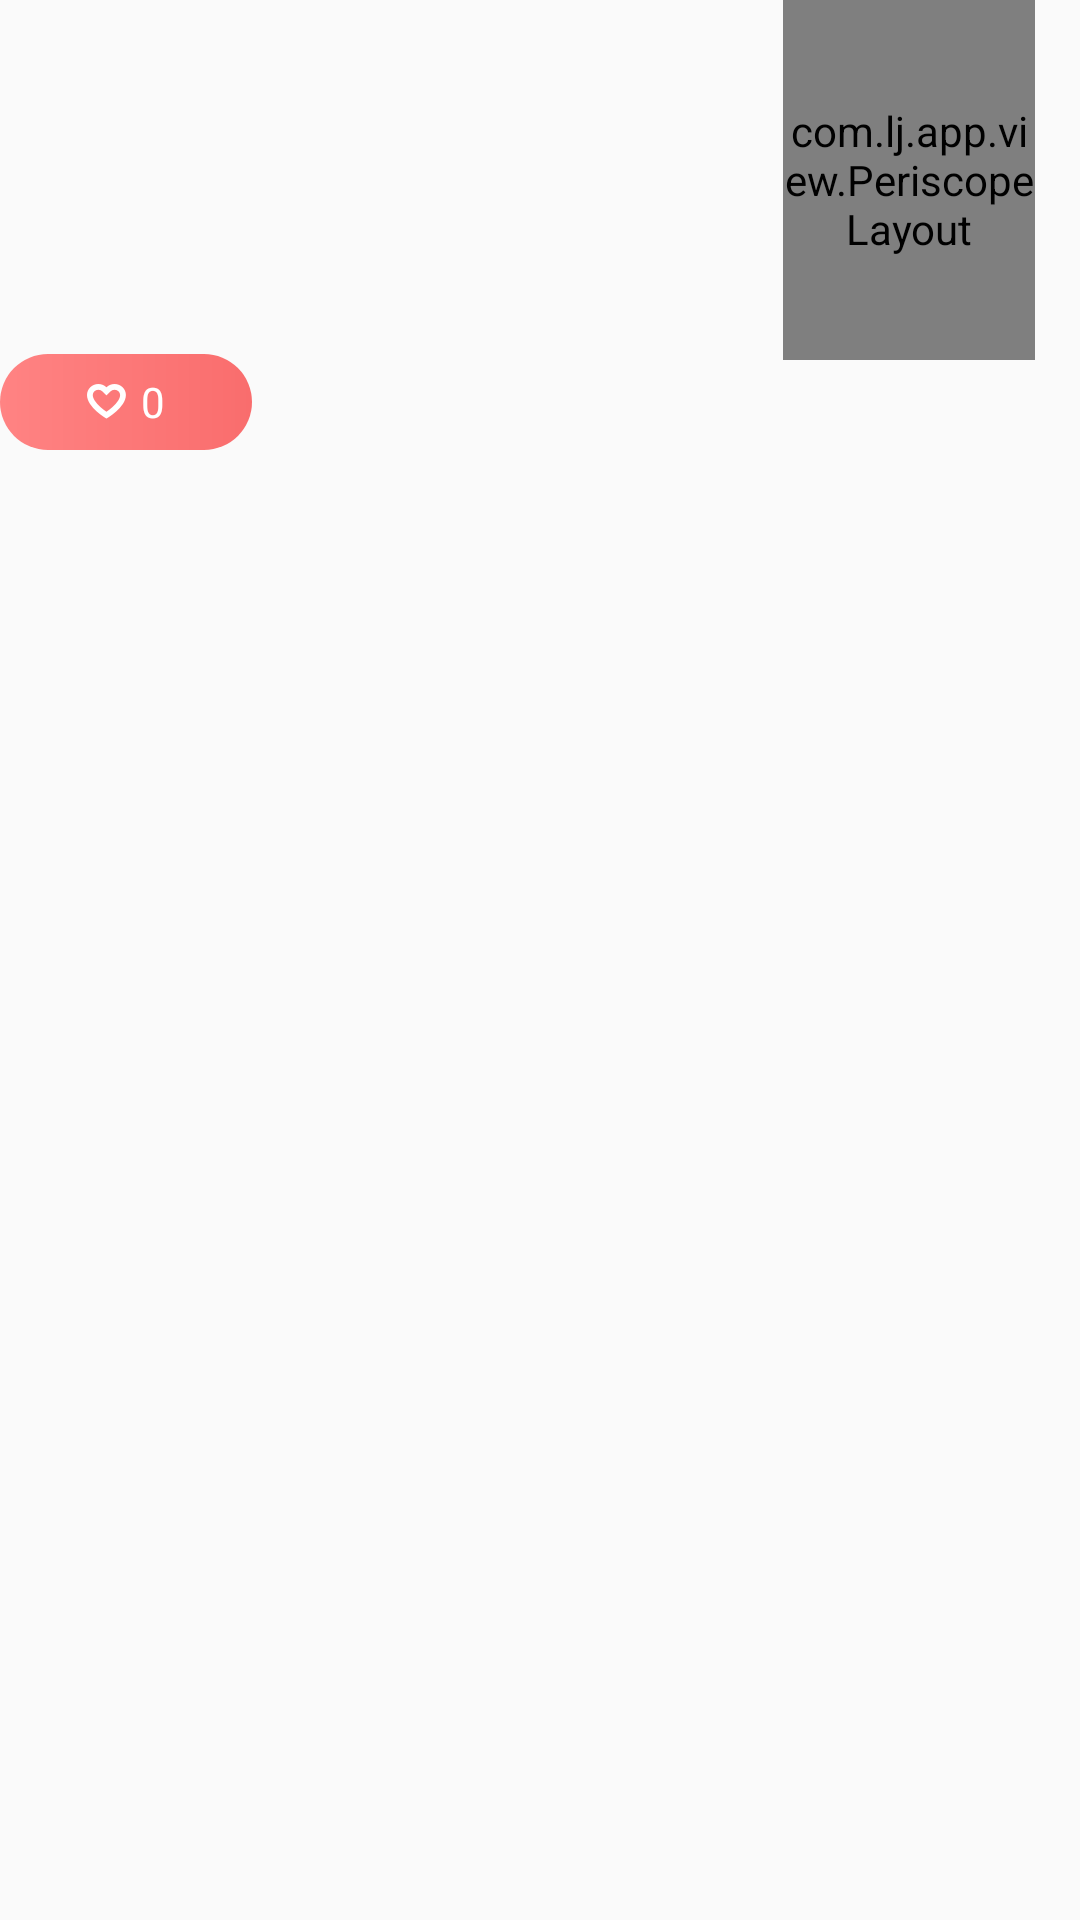

Point at icon controls on the screen. Image size 1080 × 1920, points as point (x, y).
unsec heart: point (106, 401)
